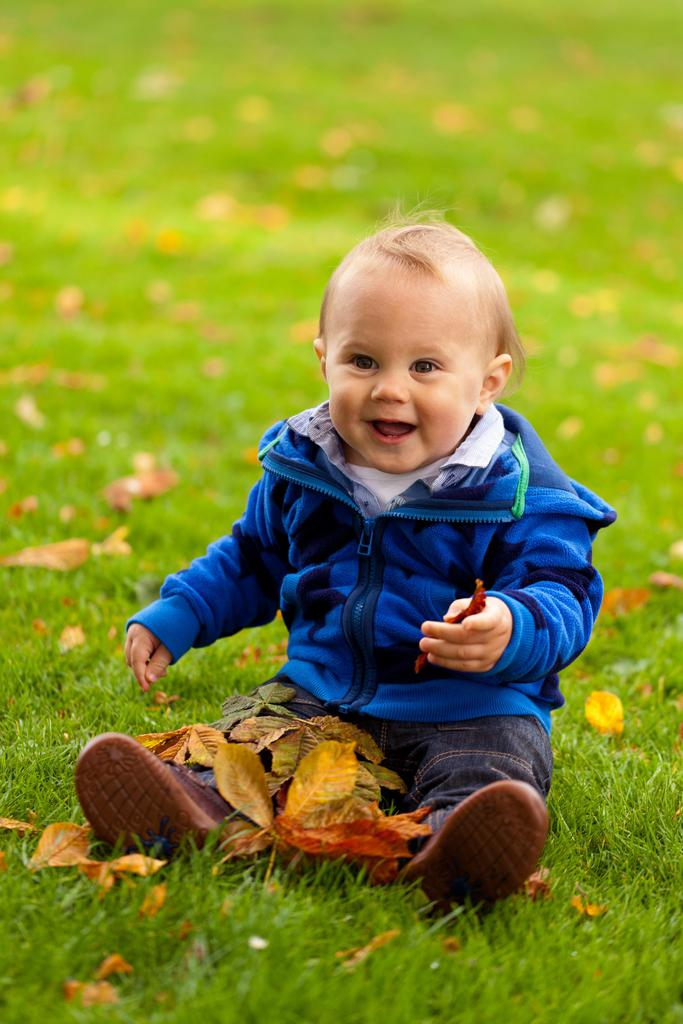child: (61, 201, 632, 976)
